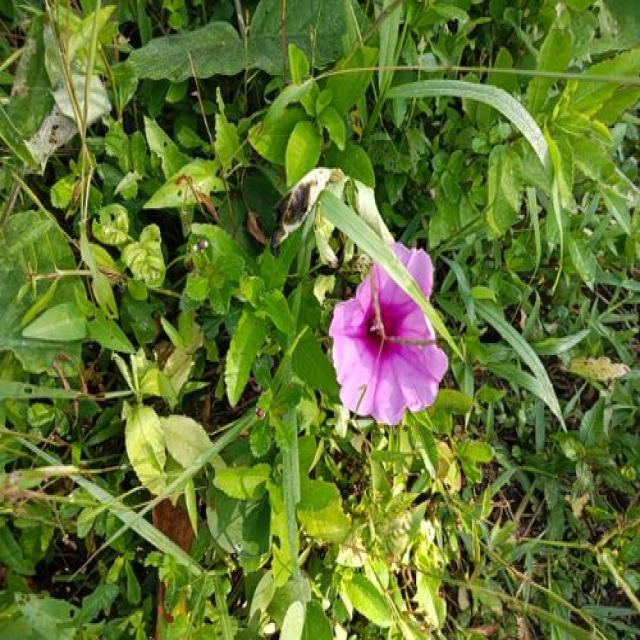ipomoea: (325, 239, 451, 430)
